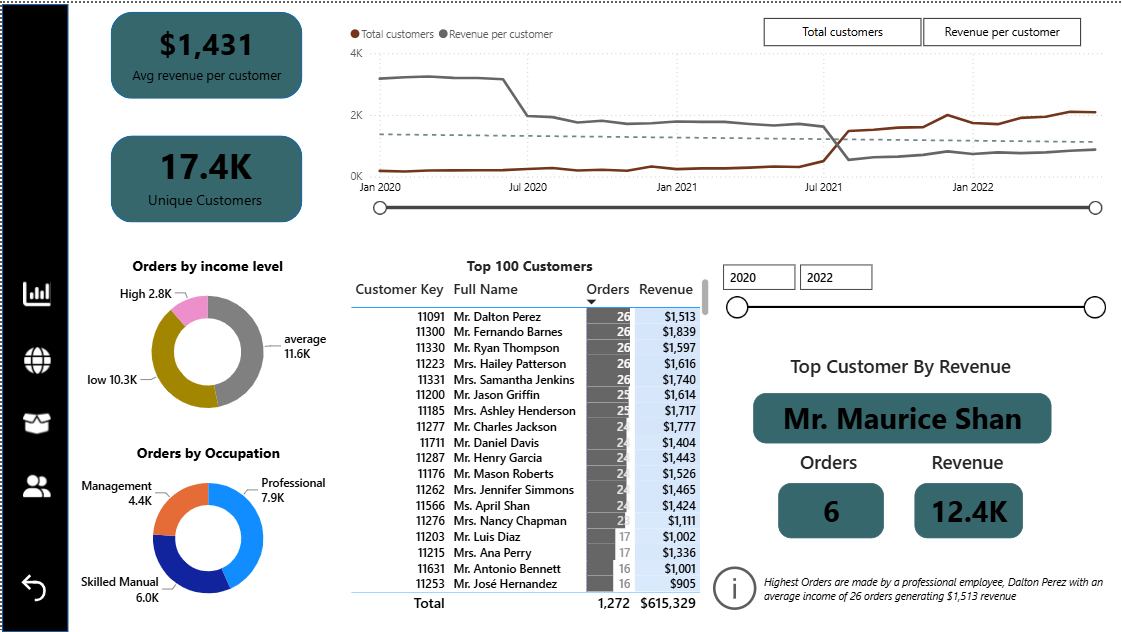

What the dashboard file says about the page in this screenshot:
{"tool":"powerbi","page":{"name":"Customer detail","canvas":[1280,720],"ordinal":3},"visuals":[{"type":"group","id":"g1","title":"KPI bg","box":[124.4,10,218.9,241.3],"z":0,"group":"g3"},{"type":"shape","box":[124.4,10,218.9,99.5],"z":0,"group":"g1"},{"type":"lineChart","title":"Weekly customers","fields":{"Y":["Measure table.Total customers","Measure table.Average revenue per customer"],"Category":["Calendar Lookup.Date.Variation.Date Hierarchy.Year","Calendar Lookup.Date.Variation.Date Hierarchy.Quarter","Calendar Lookup.Date.Variation.Date Hierarchy.Month","Calendar Lookup.Date.Variation.Date Hierarchy.Day"]},"box":[393.1,16.2,885.7,228.9],"z":0},{"type":"card","fields":{"Values":["Measure table.Total customers"]},"box":[140.1,147.3,184.6,97.6],"z":0,"group":"g2"},{"type":"actionButton","box":[20,300,39.6,65.2],"z":0,"group":"g5"},{"type":"card","fields":{"Values":["Measure table.Full Name (customer detail)"]},"box":[858.3,445.9,340.8,57.2],"z":0,"group":"g4"},{"type":"group","id":"g2","title":"KPIs","box":[140.1,8.8,185.3,236.1],"z":1000,"group":"g3"},{"type":"card","fields":{"Values":["Measure table.Average revenue per customer"]},"box":[142.5,8.8,182.9,95.8],"z":1000,"group":"g2"},{"type":"shape","box":[124.4,151.8,218.9,99.5],"z":1000,"group":"g1"},{"type":"donutChart","title":"Orders by income level","fields":{"Y":["Measure table.Total orders"],"Category":["Customer Lookup.Income level"]},"box":[75,288.6,318.9,199.1],"z":1000},{"type":"actionButton","box":[20,452.4,39.6,55.8],"z":1000,"group":"g5"},{"type":"card","fields":{"Values":["Measure table.Total revenue(Customer Deatil)"]},"box":[1042.7,548.5,124.1,63.4],"z":1000,"group":"g4"},{"type":"donutChart","title":"Orders by Occupation","fields":{"Y":["Measure table.Total orders"],"Category":["Customer Lookup.Occupation"]},"box":[75,503.5,320.3,196.2],"z":2000},{"type":"actionButton","box":[20,524.5,39.6,55.8],"z":2000,"group":"g5"},{"type":"card","fields":{"Values":["Measure table.Total orders(Customer Deatil)"]},"box":[886.9,548.5,121.2,63.4],"z":2000,"group":"g4"},{"type":"tableEx","title":"Top 100 Customers","fields":{"Values":["Customer Lookup.CustomerKey","Customer Lookup.full name","Measure table.Total orders","Measure table.Total revenue"]},"box":[393.3,288.3,420,411.7],"z":3000},{"type":"actionButton","box":[20.7,381.5,38.2,54.7],"z":3000,"group":"g5"},{"type":"textbox","box":[895.2,394.3,279.9,39.8],"z":3000,"group":"g4"},{"type":"slicer","fields":{"Values":["Calendar Lookup.Date.Variation.Date Hierarchy.Year"]},"box":[811.7,288.3,458.3,100],"z":4000},{"type":"textbox","box":[1042.4,504.1,120.7,39.9],"z":4000,"group":"g4"},{"type":"textbox","box":[884.4,504.3,120.7,39.8],"z":5000,"group":"g4"},{"type":"actionButton","box":[805,636.7,461.7,63.3],"z":5000},{"type":"shape","title":"Navigation panel","box":[0,1.4,75.7,718.6],"z":6000},{"type":"actionButton","title":"Reset CD","box":[15.7,637.1,41.4,62.9],"z":7000},{"type":"group","id":"g3","title":"Group 1","box":[124.4,8.8,218.9,242.5],"z":8000},{"type":"slicer","fields":{"Values":["Customer Metric Selection.Customer Metric Selection"]},"box":[844.6,10,413,46],"z":9000},{"type":"group","id":"g4","title":"Group 2","box":[858.3,394.3,340.8,217.7],"z":10000},{"type":"group","id":"g5","title":"Navigation Buttons","box":[20,300,40,280],"z":11000}]}

Visuals, with their boxes on the page's 1280x720 design canvas (x1, y1, x2, y2). These are canvas units, not pixel positions in the 1122x632 screenshot, which may show the page scaled, cropped or inside an application window:
"KPI bg" group: Rect(124, 10, 343, 251)
shape: Rect(124, 10, 343, 110)
"Weekly customers" lineChart: Rect(393, 16, 1279, 245)
card - Measure table.Total customers: Rect(140, 147, 325, 245)
actionButton: Rect(20, 300, 60, 365)
card - Measure table.Full Name (customer detail): Rect(858, 446, 1199, 503)
"KPIs" group: Rect(140, 9, 325, 245)
card - Measure table.Average revenue per customer: Rect(142, 9, 325, 105)
shape: Rect(124, 152, 343, 251)
"Orders by income level" donutChart: Rect(75, 289, 394, 488)
actionButton: Rect(20, 452, 60, 508)
card - Measure table.Total revenue(Customer Deatil): Rect(1043, 548, 1167, 612)
"Orders by Occupation" donutChart: Rect(75, 504, 395, 700)
actionButton: Rect(20, 524, 60, 580)
card - Measure table.Total orders(Customer Deatil): Rect(887, 548, 1008, 612)
"Top 100 Customers" tableEx: Rect(393, 288, 813, 700)
actionButton: Rect(21, 382, 59, 436)
textbox: Rect(895, 394, 1175, 434)
slicer - Calendar Lookup.Date.Variation.Date Hierarchy.Year: Rect(812, 288, 1270, 388)
textbox: Rect(1042, 504, 1163, 544)
textbox: Rect(884, 504, 1005, 544)
actionButton: Rect(805, 637, 1267, 700)
"Navigation panel" shape: Rect(0, 1, 76, 720)
"Reset CD" actionButton: Rect(16, 637, 57, 700)
"Group 1" group: Rect(124, 9, 343, 251)
slicer - Customer Metric Selection.Customer Metric Selection: Rect(845, 10, 1258, 56)
"Group 2" group: Rect(858, 394, 1199, 612)
"Navigation Buttons" group: Rect(20, 300, 60, 580)
